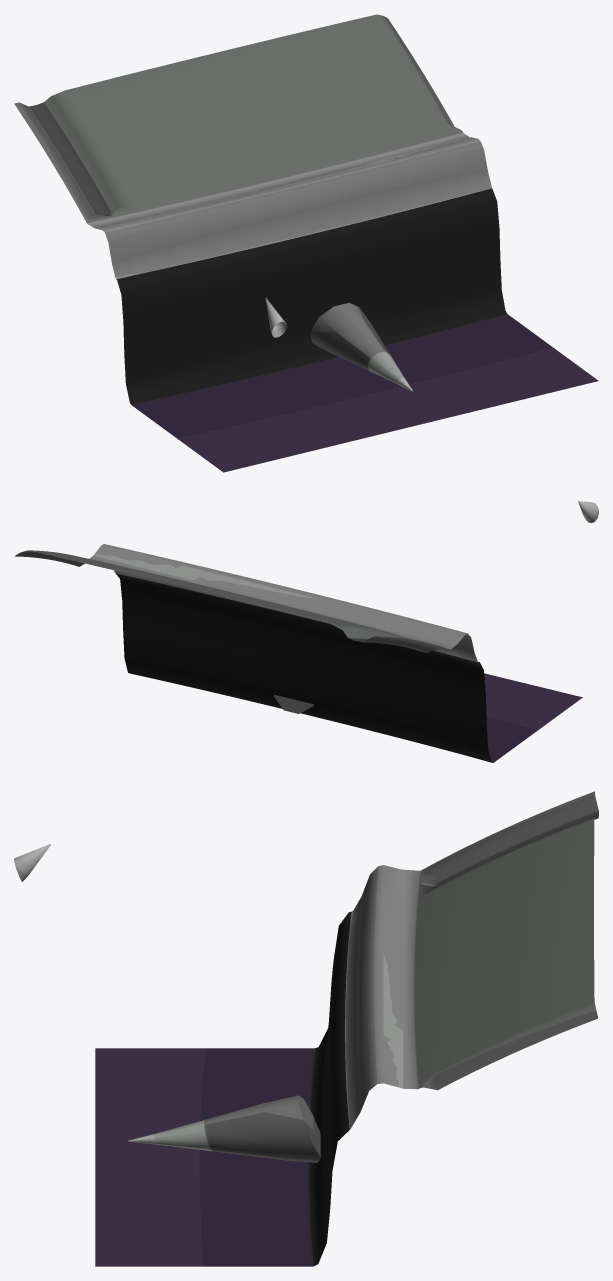
The model's file is coral_citadel_123.glb.
The picture shows the model from 3 angles, top to bottom: view 1: azimuth 30°, elevation 25°; view 2: azimuth 150°, elevation 25°; view 3: azimuth 270°, elevation 25°; orthographic projection. The views are drawn at different scales.
Parts seen in each view (by area): view 1: coral_citadel_123; view 2: coral_citadel_123; view 3: coral_citadel_123.
Boxes of the visible parts, x1,y1,x2,y2 form: coral_citadel_123: (14, 14, 598, 472); coral_citadel_123: (14, 501, 598, 762); coral_citadel_123: (14, 791, 598, 1266).
Size of the model in its own units: 24 by 13.29 by 27.17.
